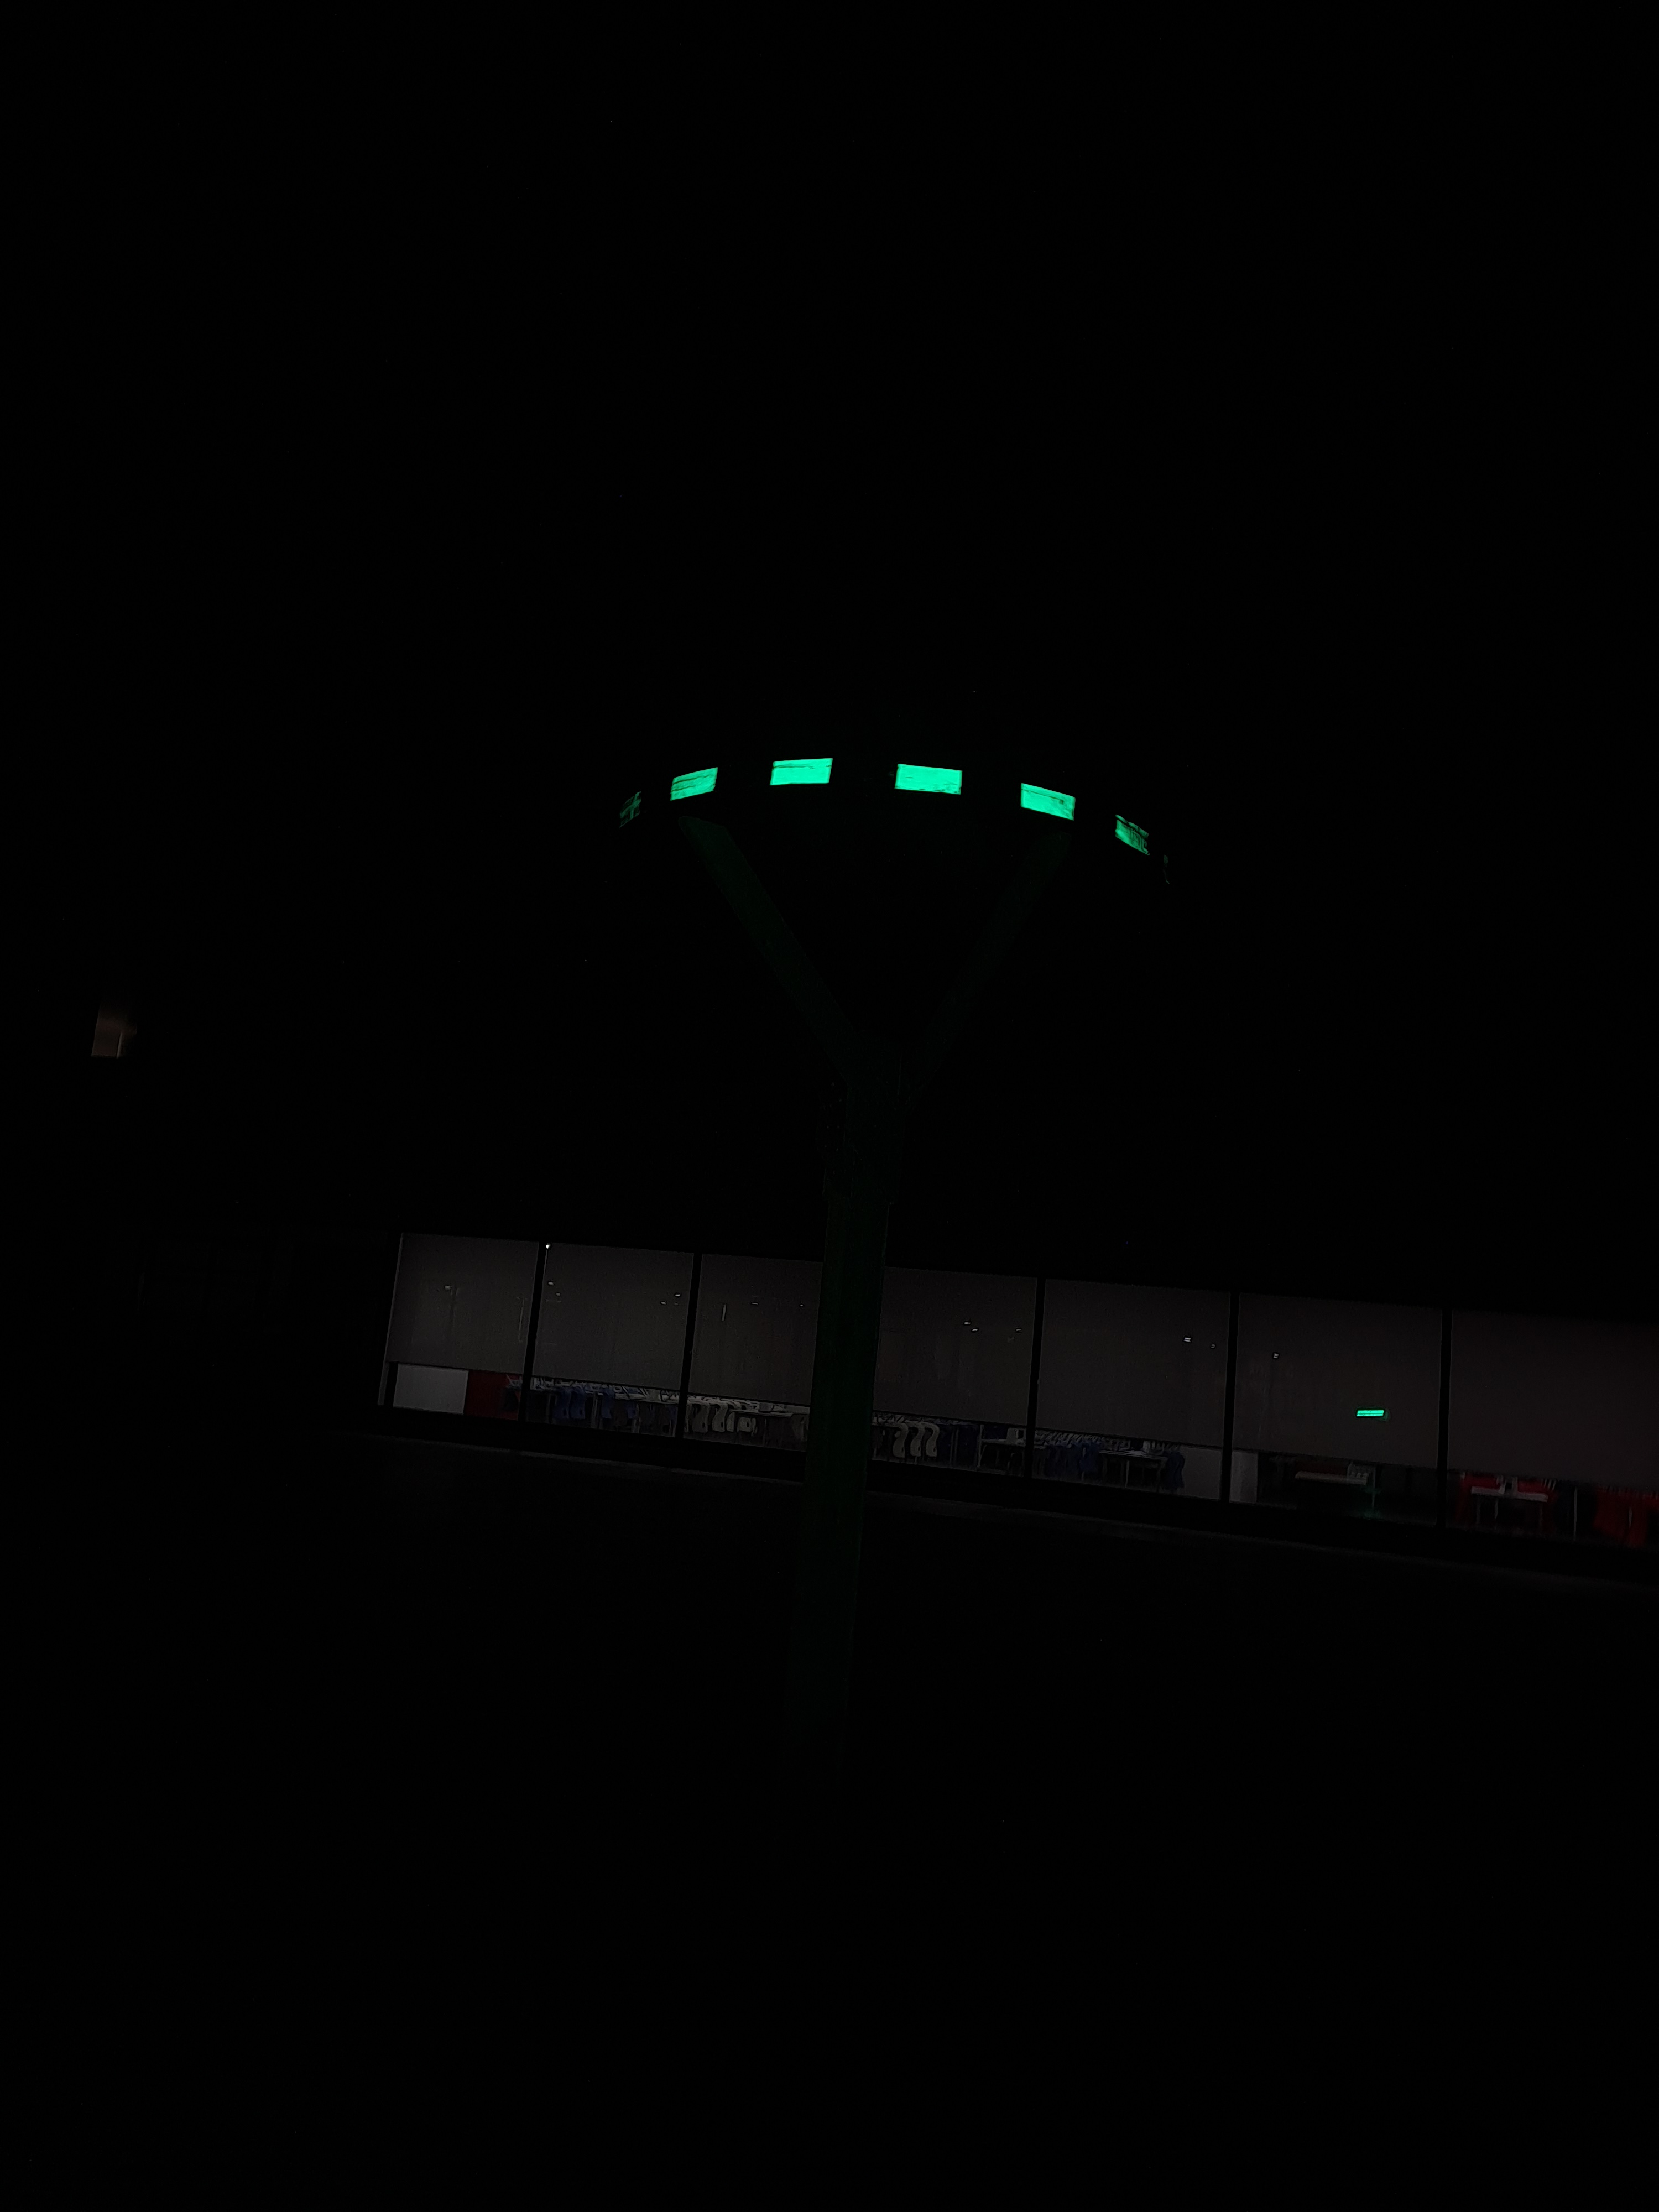hoop: (657, 744, 1154, 860)
